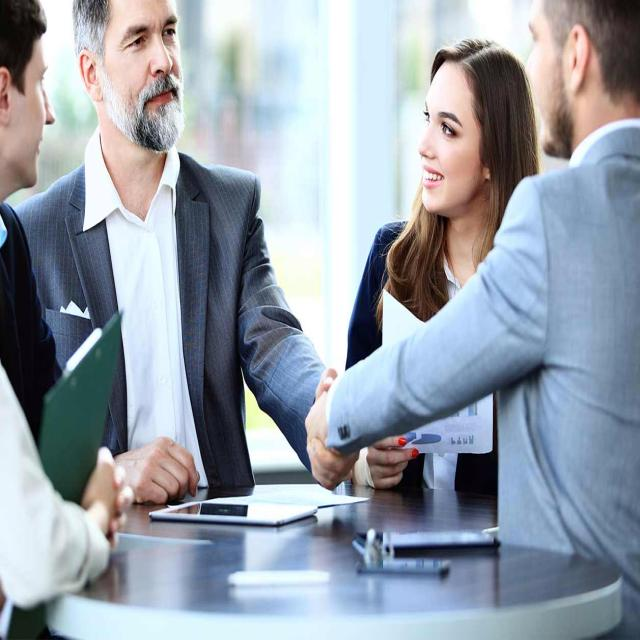adult: (14, 0, 355, 517), (344, 32, 538, 488)
